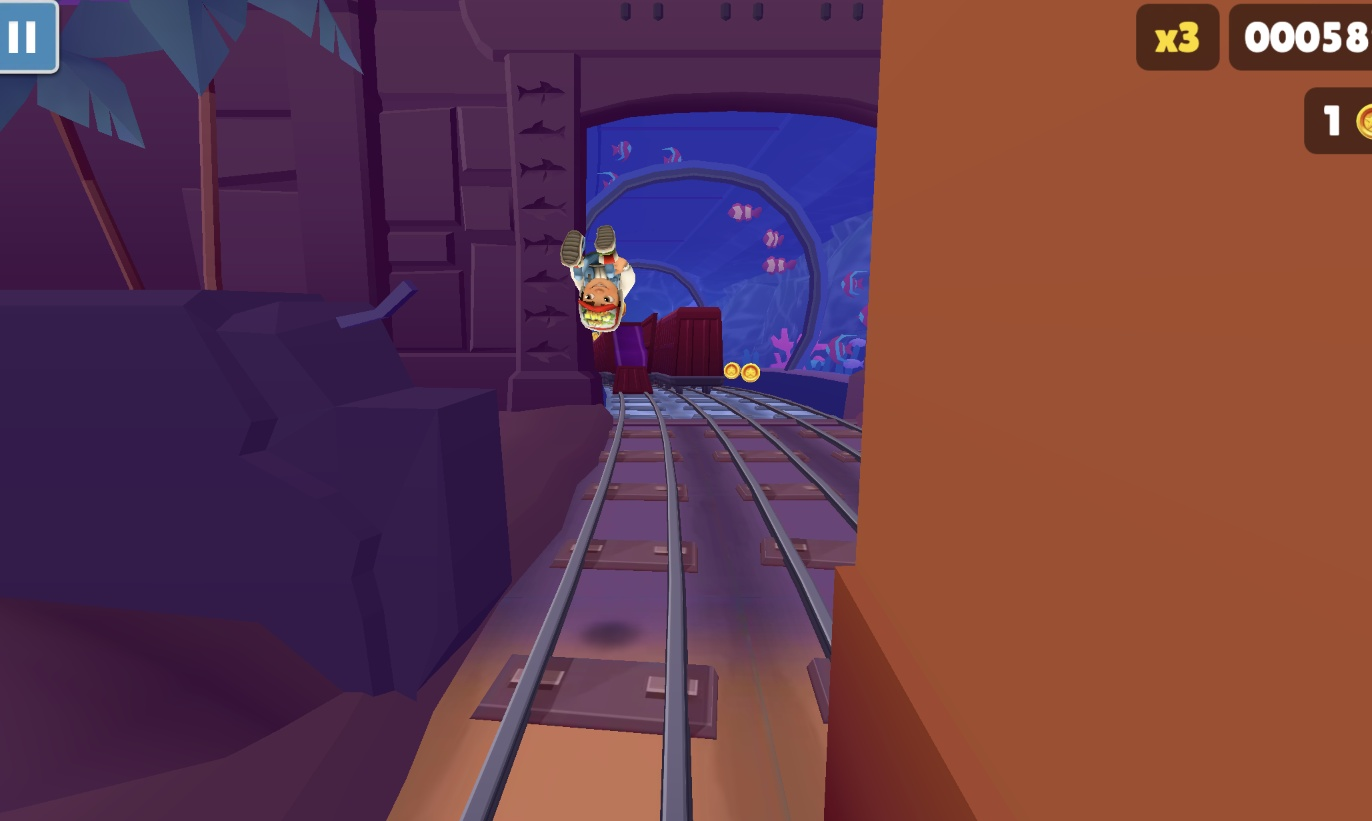pillar: (848, 0, 1372, 821)
train: (652, 307, 725, 391), (598, 318, 657, 395)
